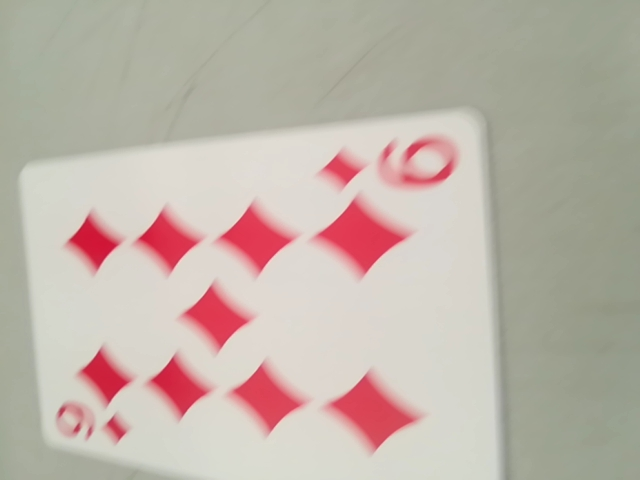fk 9: (319, 125, 463, 206), (44, 393, 134, 454)
